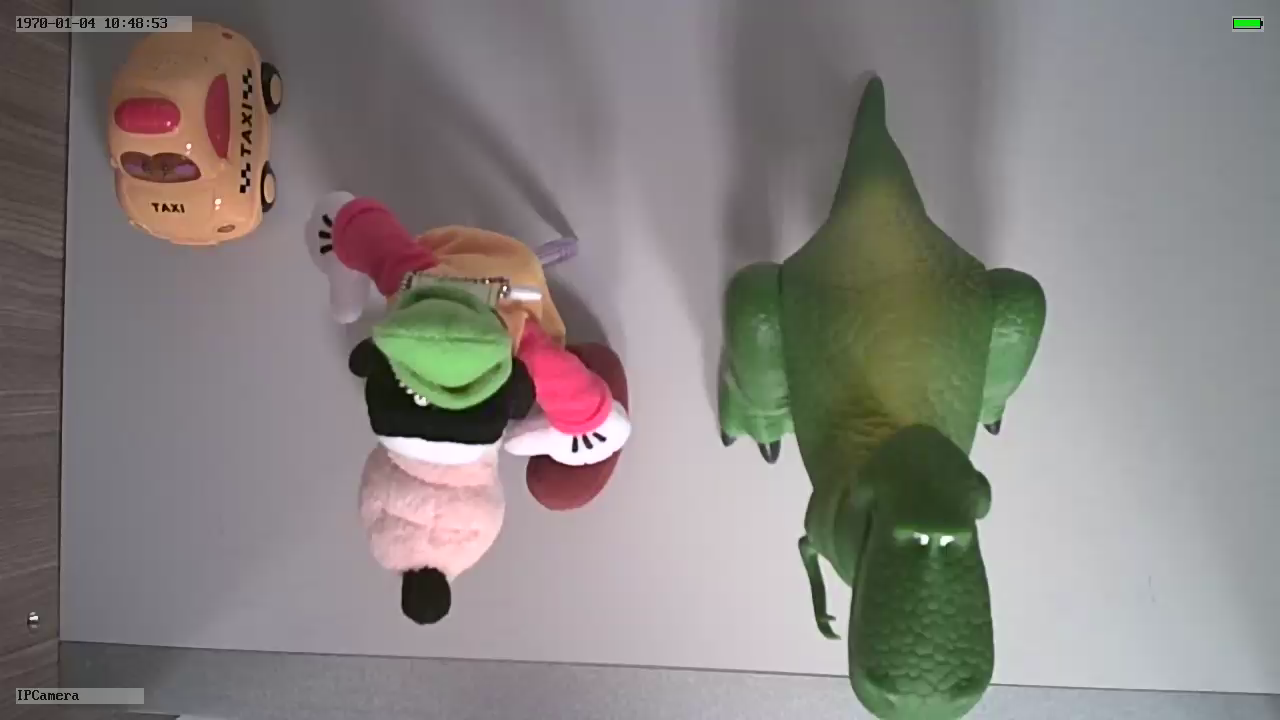goofy: (302, 189, 635, 631)
